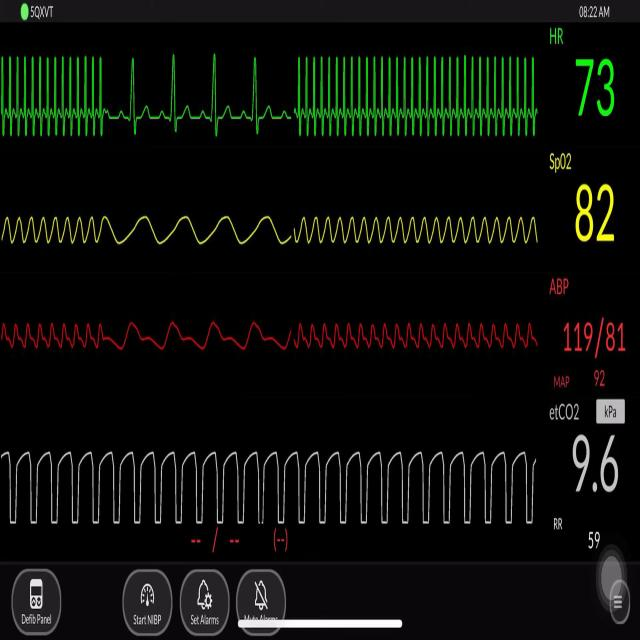danger: (292, 45, 543, 146), (2, 47, 108, 146)
